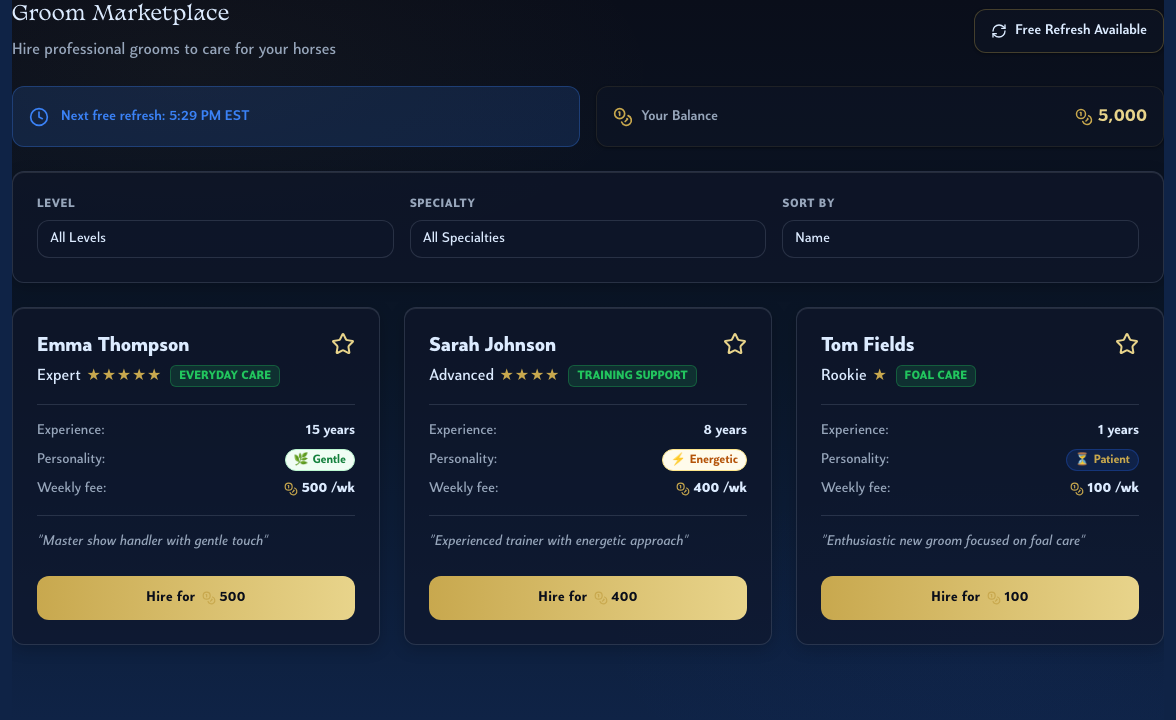
Test: Story 7-1: Groom Hiring Interface › AC2: Filter by specialty and price › can reset specialty filter to show all grooms
Select "Foal Care" in the dropdown with test id "specialty-filter" at (588, 239), box [410, 220, 766, 258]
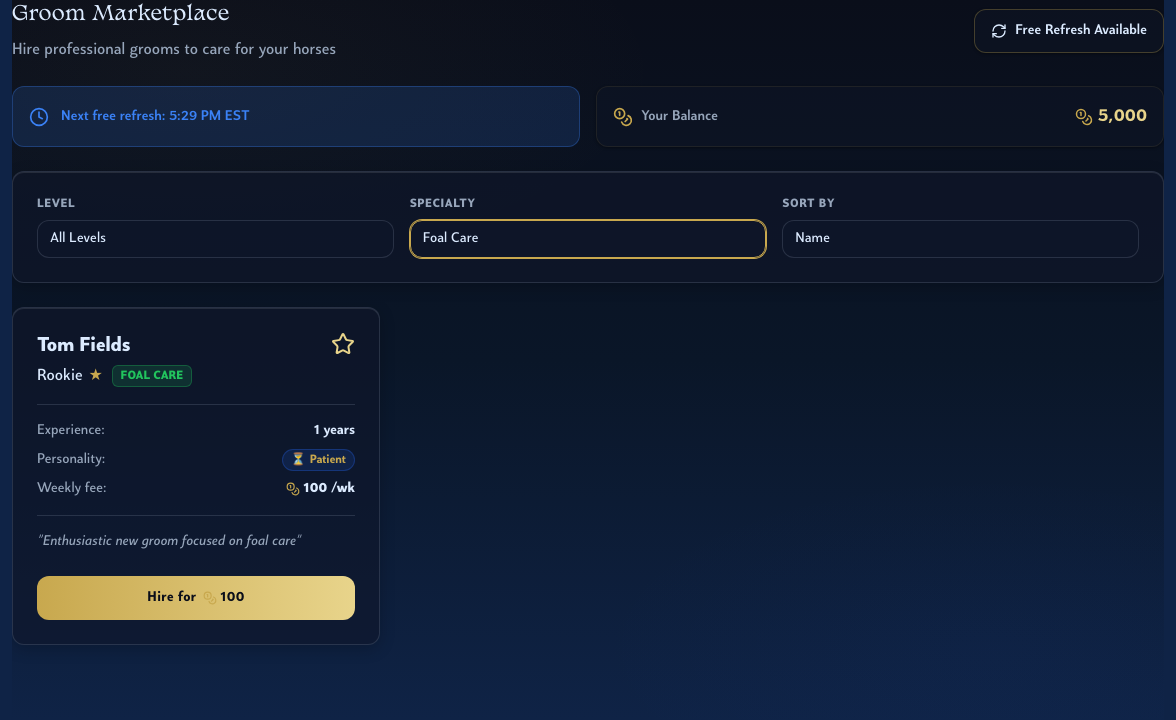
Select "All Specialties" in the dropdown with test id "specialty-filter" at (588, 239), box [410, 220, 766, 258]
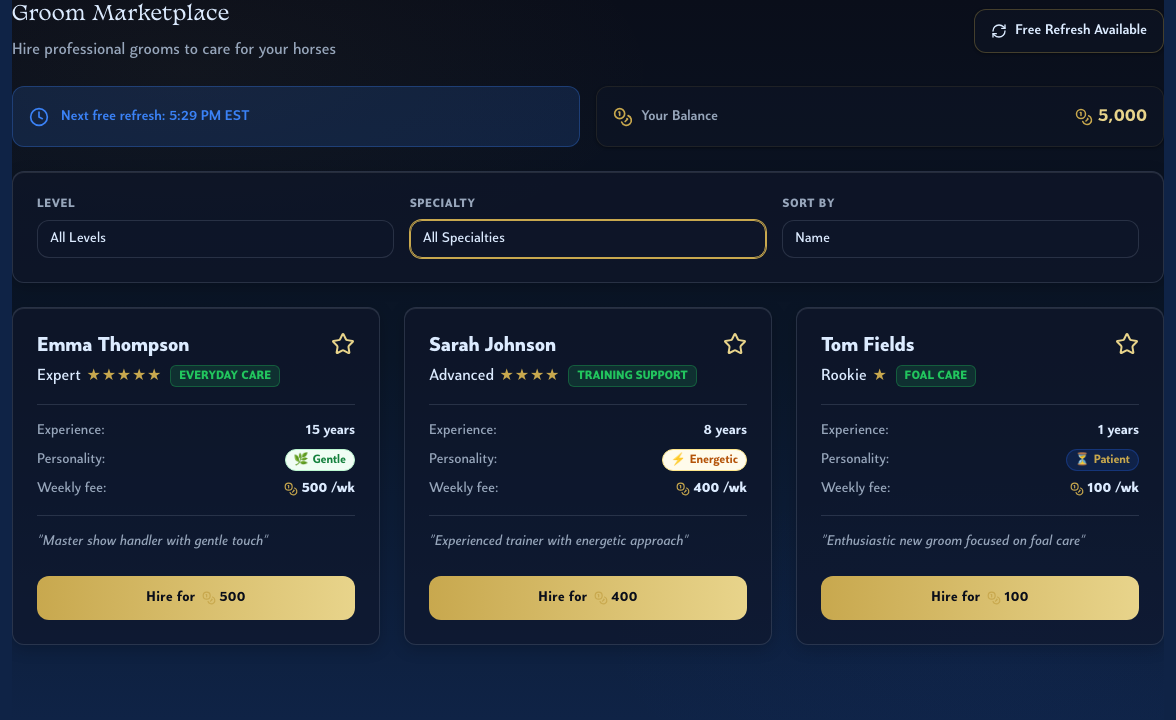
Expected: the number of buttons "Hire for 500" is 3, [37, 576, 355, 620]; [429, 576, 747, 620]; [821, 576, 1139, 620]
